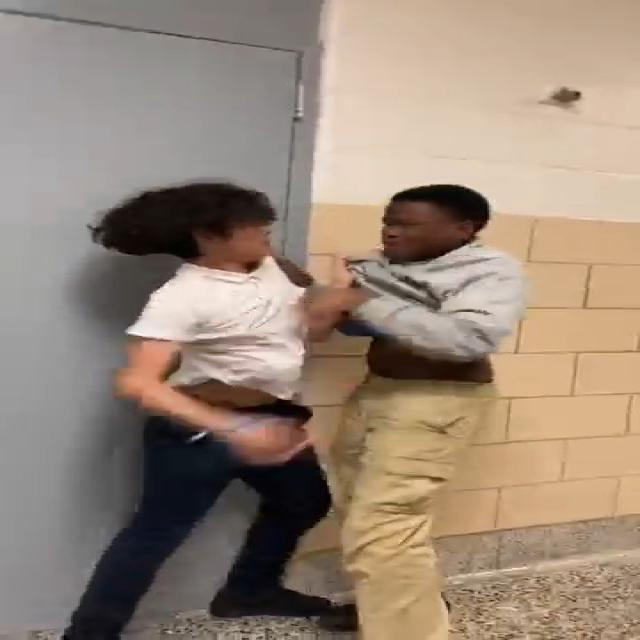fight: (102, 179, 514, 640)
